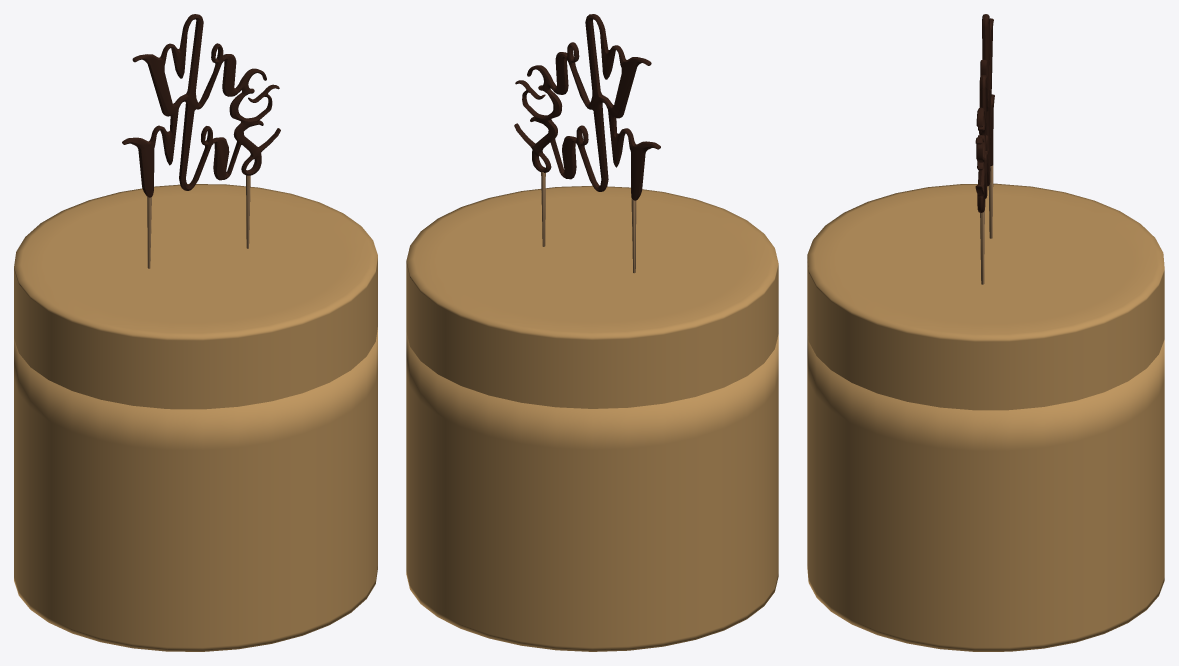
The model's file is 1-tier-caramel-none-mrms.glb.
3 views of the same model, side by side, from view 1: azimuth 30°, elevation 25°; view 2: azimuth 150°, elevation 25°; view 3: azimuth 270°, elevation 25° (orthographic).
Parts seen in each view (by area): view 1: Cylinder.019, mrms.001; view 2: Cylinder.019, mrms.001; view 3: Cylinder.019, mrms.001.
Part boxes in pixels (x1,y1,x2,y2): Cylinder.019: (14, 184, 377, 651); mrms.001: (122, 14, 280, 268); Cylinder.019: (406, 185, 778, 651); mrms.001: (514, 14, 660, 273); Cylinder.019: (807, 183, 1164, 651); mrms.001: (975, 14, 994, 284).
Size of the model in its own units: 2.63 by 4.41 by 2.55.
